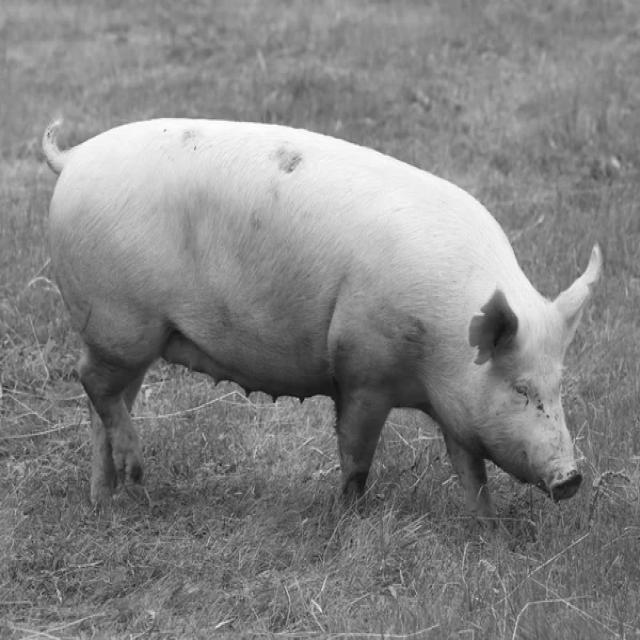Animal: (43, 118, 602, 521)
